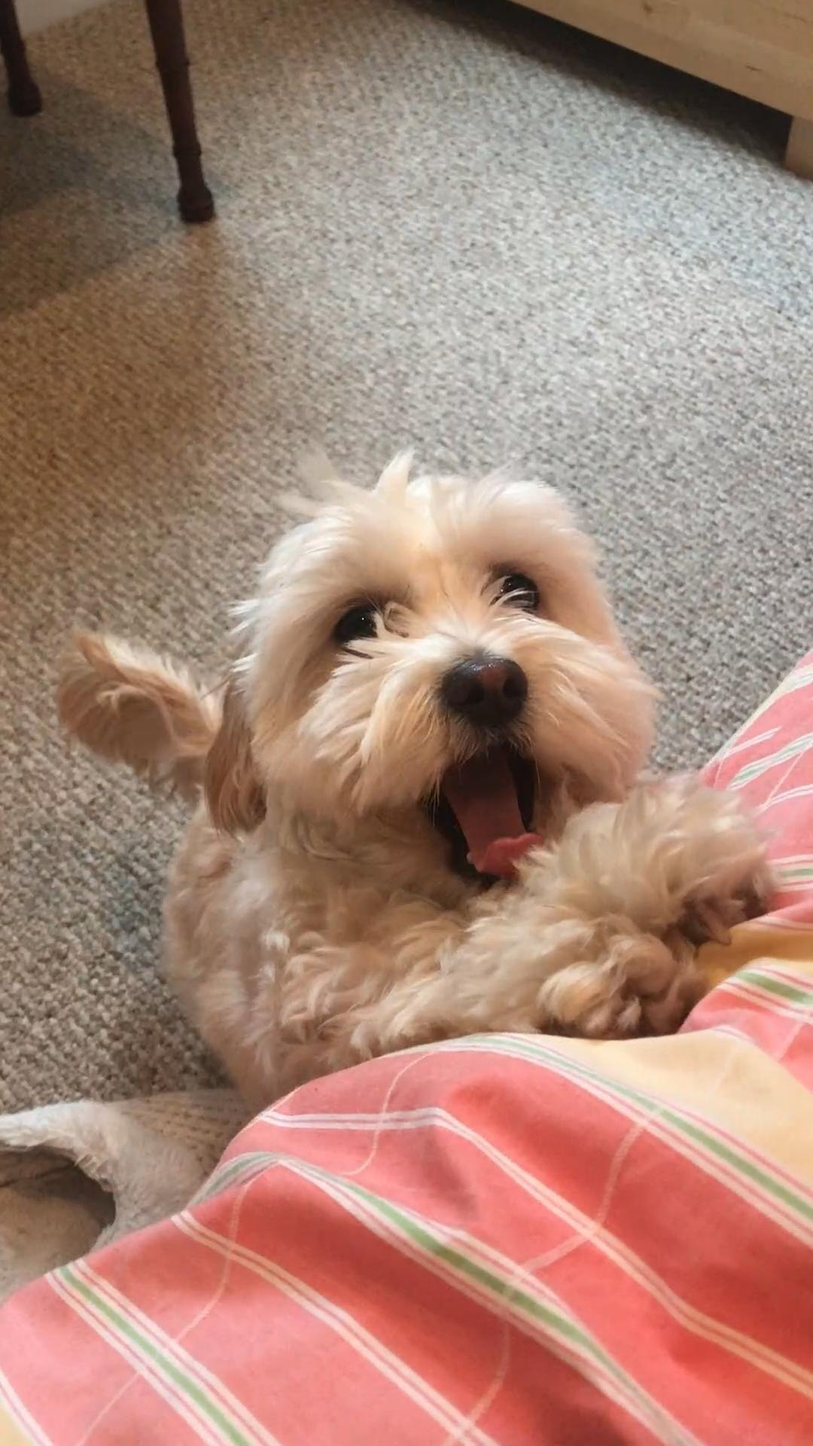adult_dog: (50, 444, 793, 1100)
